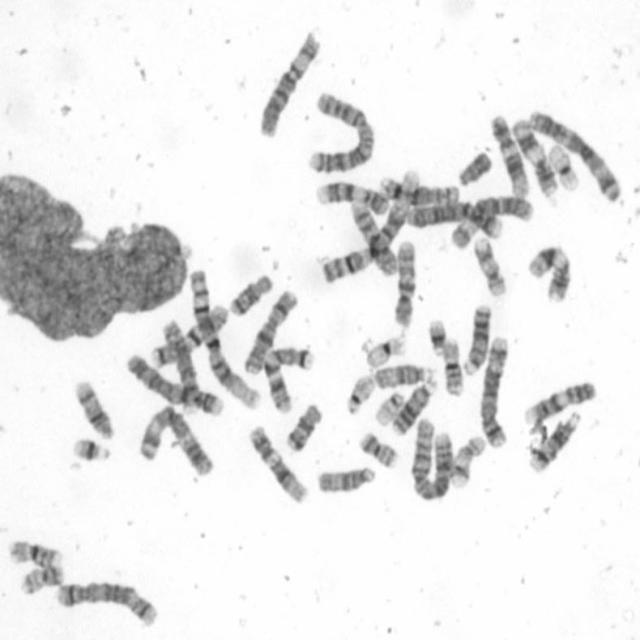A1: (317, 167, 420, 286), (186, 264, 262, 411)
A2: (302, 86, 377, 175), (408, 414, 454, 502)
A3: (525, 105, 623, 204), (134, 402, 216, 477)
B4: (122, 349, 225, 417), (404, 198, 506, 239)
B5: (53, 577, 161, 628), (476, 332, 512, 448)
C10: (346, 197, 399, 277), (390, 235, 419, 328)
C11: (509, 115, 559, 199), (523, 240, 573, 305)
C12: (246, 420, 308, 504), (487, 110, 530, 200)
C6: (255, 27, 322, 140), (446, 192, 535, 252)
C7: (147, 299, 231, 369), (261, 342, 316, 416)
C8: (160, 315, 202, 414), (376, 172, 461, 206)
C9: (519, 377, 597, 426), (312, 176, 390, 216)
D13: (388, 375, 438, 437), (461, 300, 494, 376)
D14: (526, 406, 583, 474), (71, 377, 116, 440)
D15: (315, 463, 377, 496), (371, 360, 438, 390)
E16: (4, 535, 66, 568), (440, 334, 466, 398)
E17: (472, 233, 507, 298), (447, 432, 487, 488)
E18: (280, 399, 324, 454), (226, 270, 274, 317)
F19: (545, 140, 581, 193), (361, 330, 409, 369)
F20: (358, 426, 400, 470), (17, 561, 66, 596)
G21: (70, 434, 112, 464), (425, 315, 448, 356)
G22: (343, 371, 376, 416), (371, 389, 406, 428)
X: (241, 286, 299, 375)
Y: (455, 146, 494, 188)
